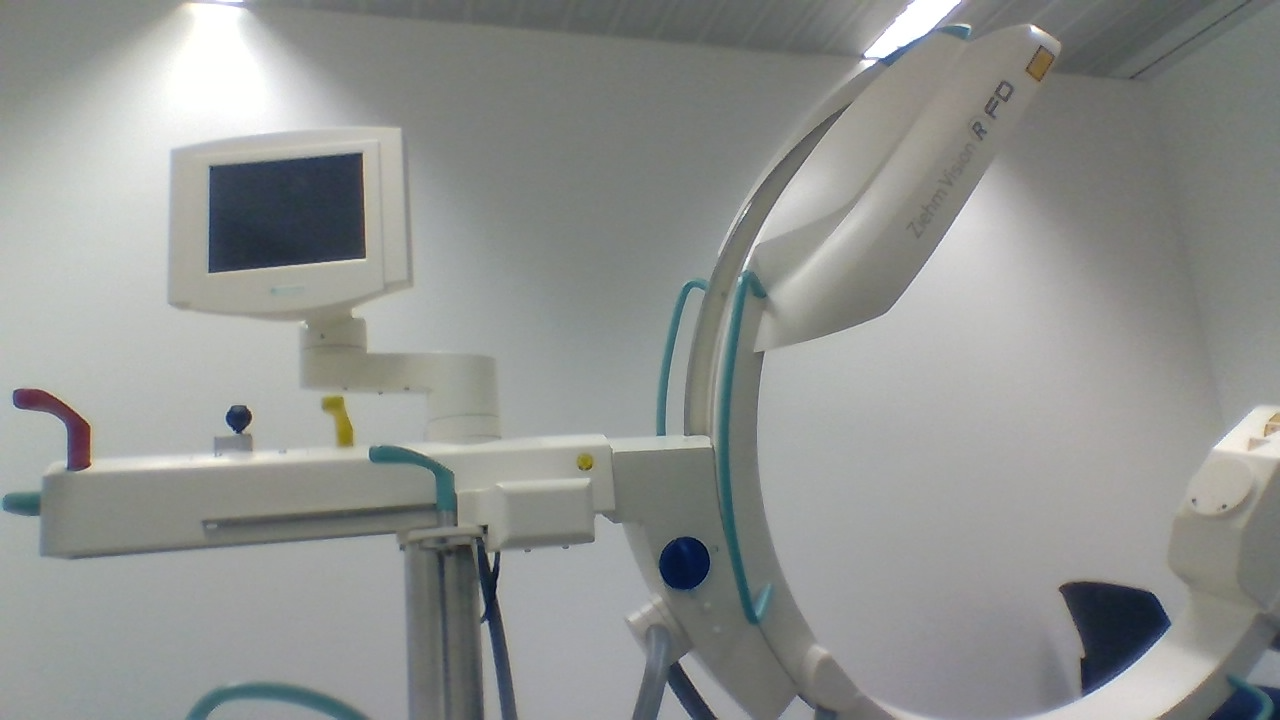carmLOCK: (657, 533, 712, 591)
carmSCREEN: (164, 124, 415, 318)
carmUP: (722, 22, 1066, 354)
